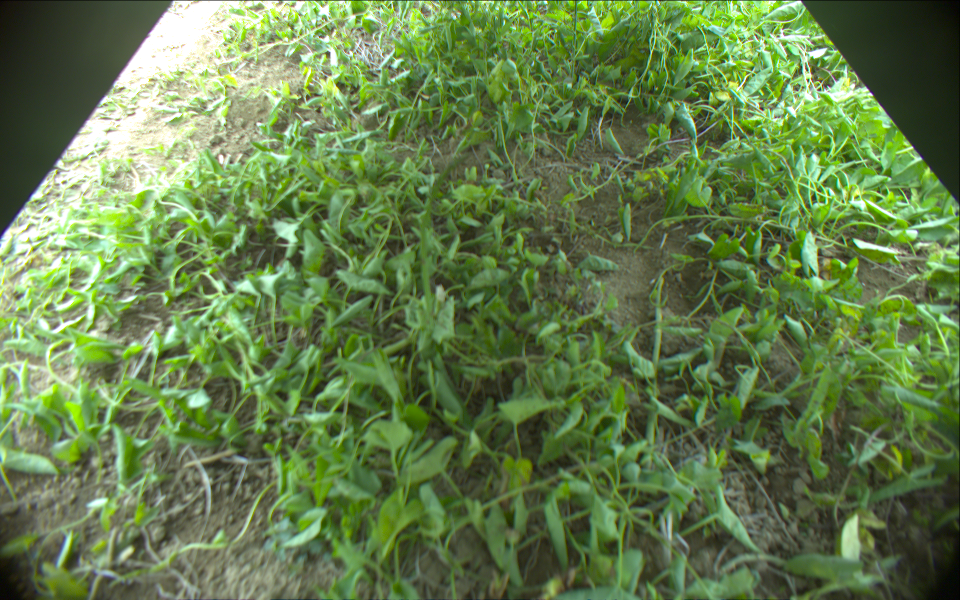aspa: (421, 130, 475, 317), (572, 1, 579, 59)
